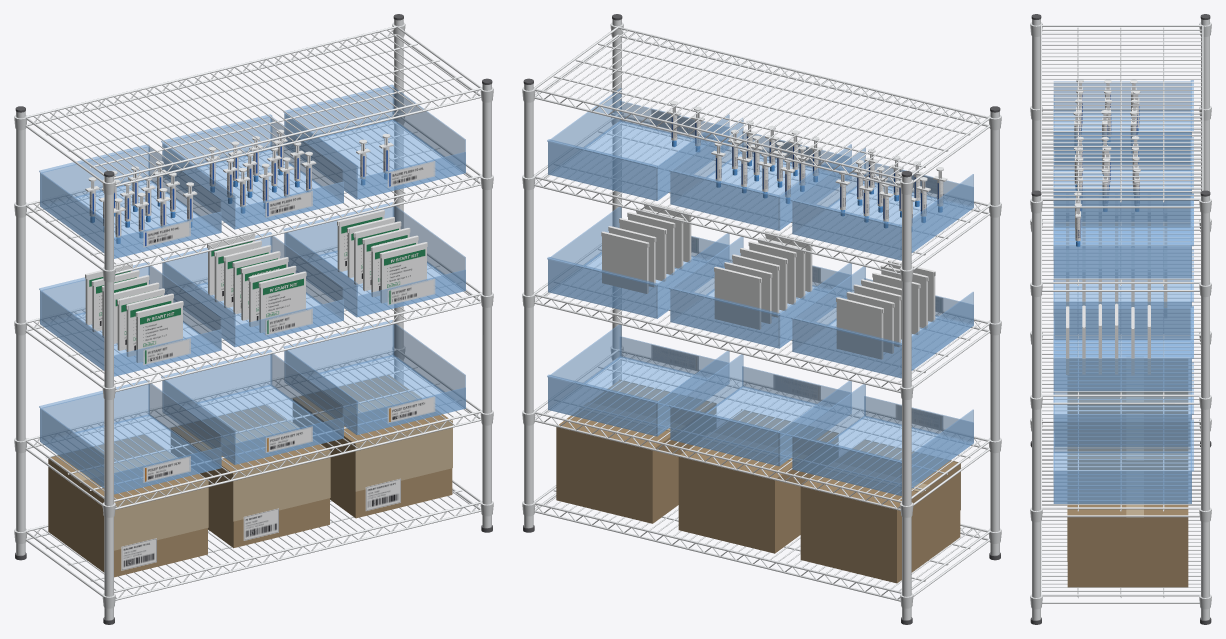
File: SupplyShelf.glb
The picture shows the model from 3 angles, left to right: view 1: azimuth 30°, elevation 25°; view 2: azimuth 150°, elevation 25°; view 3: azimuth 270°, elevation 25°; orthographic projection. The views are drawn at different scales.
Parts seen in each view (by area): view 1: BinPlastic, Chrome, Cardboard, Tape, Pouch, PouchLabel, SyringeLabel, SyringeWhite, Holder, BinLabel_foley, BinLabel_iv, BinLabel_flush (+4 smaller); view 2: BinPlastic, Chrome, Cardboard, Pouch, Holder, SyringeWhite, SyringeLabel, Tape, FlushCap; view 3: BinPlastic, Chrome, Cardboard, Pouch, SyringeWhite, Tape, SyringeLabel, Feet.
Part boxes in pixels (bbox=[...]): BinPlastic: bbox=[39, 84, 465, 494]; Chrome: bbox=[14, 19, 493, 620]; Cardboard: bbox=[48, 375, 452, 577]; Tape: bbox=[71, 391, 452, 550]; Pouch: bbox=[85, 209, 427, 362]; PouchLabel: bbox=[89, 217, 425, 359]; SyringeLabel: bbox=[89, 146, 389, 235]; SyringeWhite: bbox=[85, 129, 393, 237]; Holder: bbox=[143, 161, 435, 482]; BinLabel_foley: bbox=[145, 398, 433, 481]; BinLabel_iv: bbox=[145, 280, 433, 363]; BinLabel_flush: bbox=[145, 162, 433, 245]; BinPlastic: bbox=[547, 88, 973, 495]; Chrome: bbox=[522, 19, 1001, 620]; Cardboard: bbox=[556, 380, 960, 583]; Pouch: bbox=[601, 201, 935, 359]; Holder: bbox=[651, 109, 942, 430]; SyringeWhite: bbox=[667, 101, 947, 225]; SyringeLabel: bbox=[671, 117, 943, 223]; Tape: bbox=[580, 379, 960, 510]; FlushCap: bbox=[672, 140, 942, 231]; BinPlastic: bbox=[1053, 80, 1193, 503]; Chrome: bbox=[1030, 19, 1211, 620]; Cardboard: bbox=[1067, 359, 1188, 587]; Pouch: bbox=[1066, 190, 1167, 375]; SyringeWhite: bbox=[1073, 79, 1140, 241]; Tape: bbox=[1067, 359, 1143, 561]; SyringeLabel: bbox=[1074, 94, 1139, 238]; Feet: bbox=[1030, 14, 1211, 624].
Size of the model in its own units: 1.21 by 1.34 by 0.5124.
Materials: 17 (8 with a texture image).
